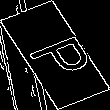P_NE: (15, 27, 95, 83)
